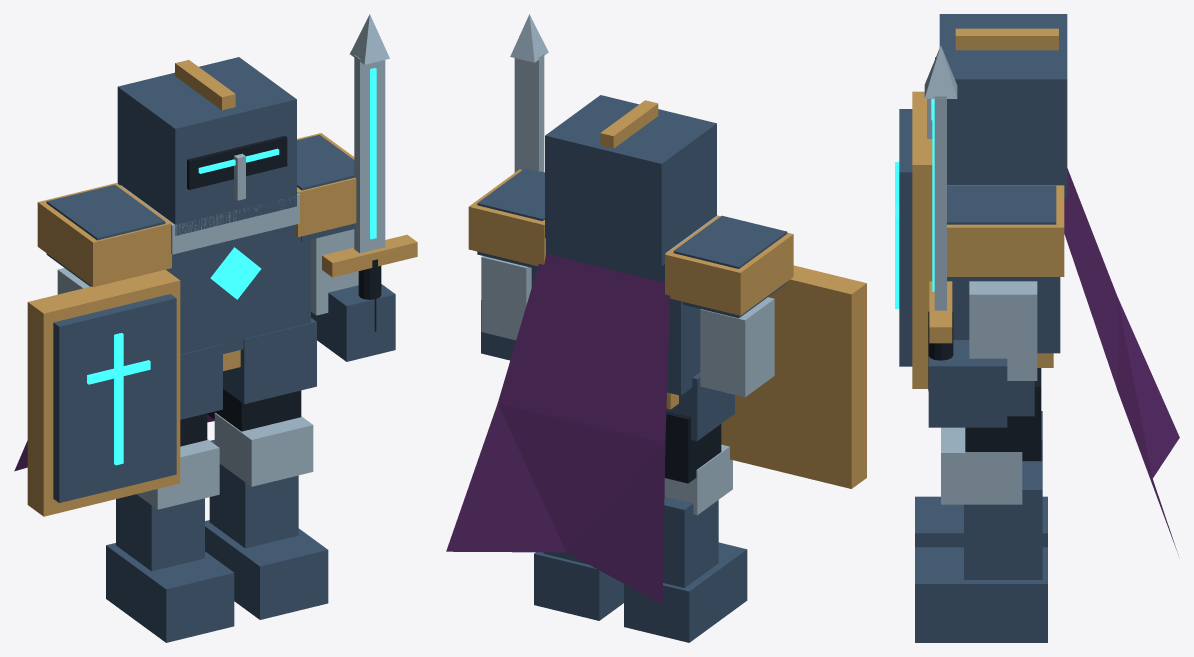
The model's file is aegis-knight.glb.
3 views of the same model, side by side, from view 1: azimuth 30°, elevation 25°; view 2: azimuth 150°, elevation 25°; view 3: azimuth 270°, elevation 25° (orthographic). The views are drawn at different scales.
Parts seen in each view (by area): view 1: Helmet, Tower shield face, Breastplate, Tower shield rim, L sabaton, R sabaton, L shoulder trim, R skirt plate, L shin plate, R knee, R shin plate, Sword blade (+19 smaller); view 2: Angular plum cloak, Tower shield rim, Helmet, L sabaton, L shoulder trim, Shield arm, Breastplate, R sabaton, L shin plate, R shoulder trim, L shoulder armor, Sword arm (+8 smaller); view 3: Helmet, R sabaton, Angular plum cloak, R shin plate, R shoulder trim, Sword arm, Sword gauntlet, Tower shield rim, R knee, R shoulder armor, Tower shield face, R thigh (+10 smaller).
Boxes of the visible parts, x1,y1,x2,y2 form: Helmet: (117,57,296,235); Tower shield face: (53,294,176,502); Breastplate: (166,224,310,354); Tower shield rim: (27,269,180,516); L sabaton: (106,543,234,642); R sabaton: (205,520,328,619); L shoulder trim: (37,183,171,287); R skirt plate: (223,318,316,404); L shin plate: (116,494,204,571); R knee: (214,413,313,486); R shin plate: (209,440,298,548); Sword blade: (354,55,385,253); Angular plum cloak: (446,254,670,604); Tower shield rim: (721,265,866,488); Helmet: (545,95,716,266); L sabaton: (624,542,747,642); L shoulder trim: (665,215,793,315); Shield arm: (700,297,774,397); Breastplate: (531,238,700,395); R sabaton: (534,552,623,620); L shin plate: (663,496,718,587); R shoulder trim: (468,169,545,266); L shoulder armor: (673,215,787,318); Sword arm: (481,256,531,340); Helmet: (939,14,1067,197); R sabaton: (915,547,1047,642); Angular plum cloak: (1064,168,1179,555); R shin plate: (964,461,1042,579); R shoulder trim: (947,185,1064,276); Sword arm: (969,281,1037,380); Sword gauntlet: (928,340,1007,427); Tower shield rim: (912,91,932,388); R knee: (941,427,1022,504); R shoulder armor: (947,185,1056,281); Tower shield face: (899,109,912,366); R thigh: (965,368,1041,460).
Size of the model in its own units: 1.79 by 2.54 by 1.05.
